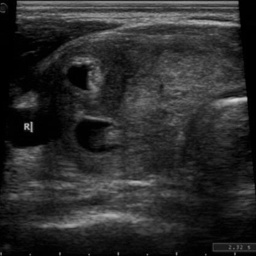mass: (28, 30, 245, 161)
